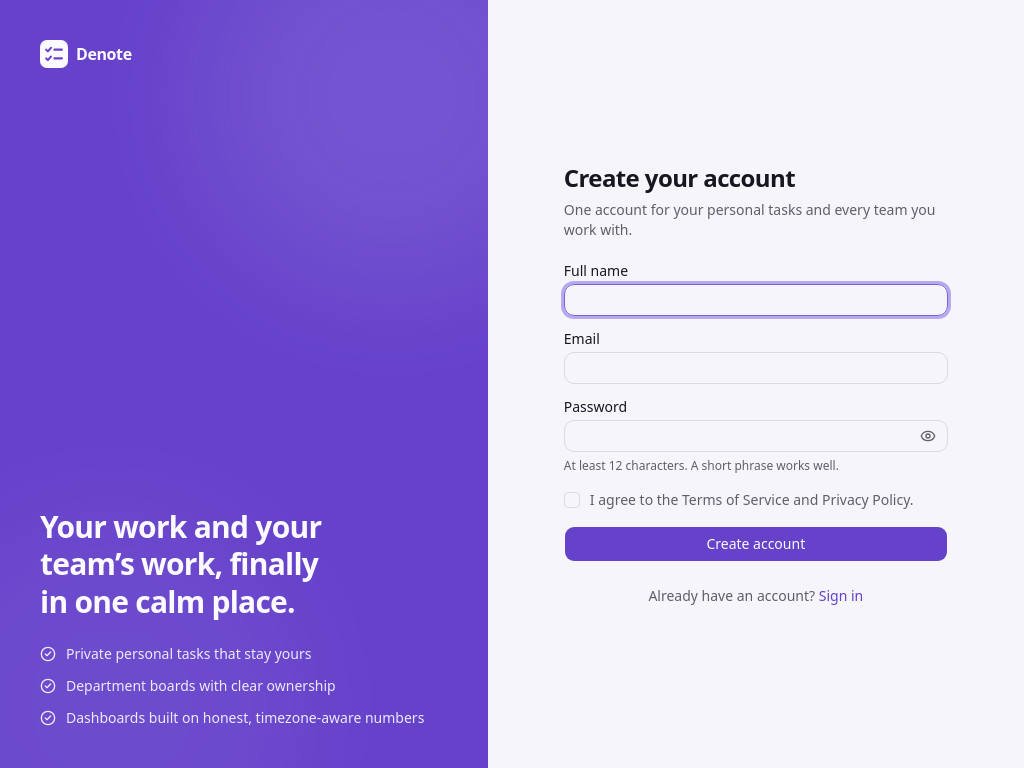
Test: registration › requires terms and shows server password feedback on the field
The width and height of the screenshot is (1024, 768).
Type "Ada Lovelace" into the field labelled "Full name". click: (756, 300)
box: [564,284,948,316]
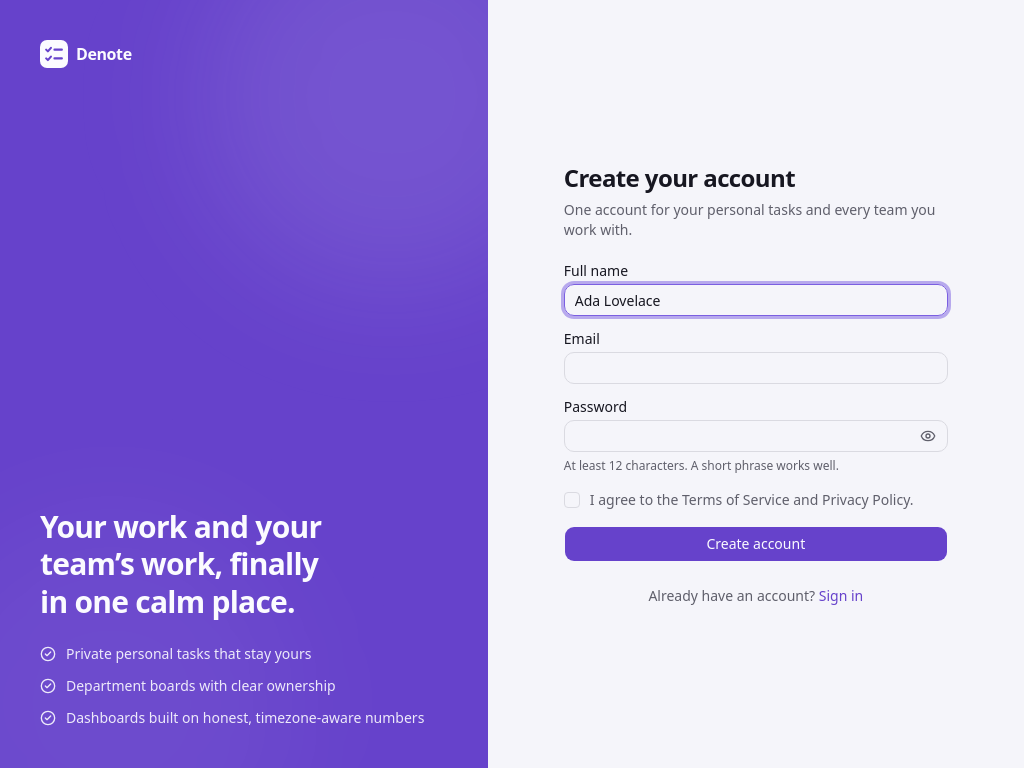
Type "ada@example.com" into the field labelled "Email". click: (756, 368)
box: [564,352,948,384]
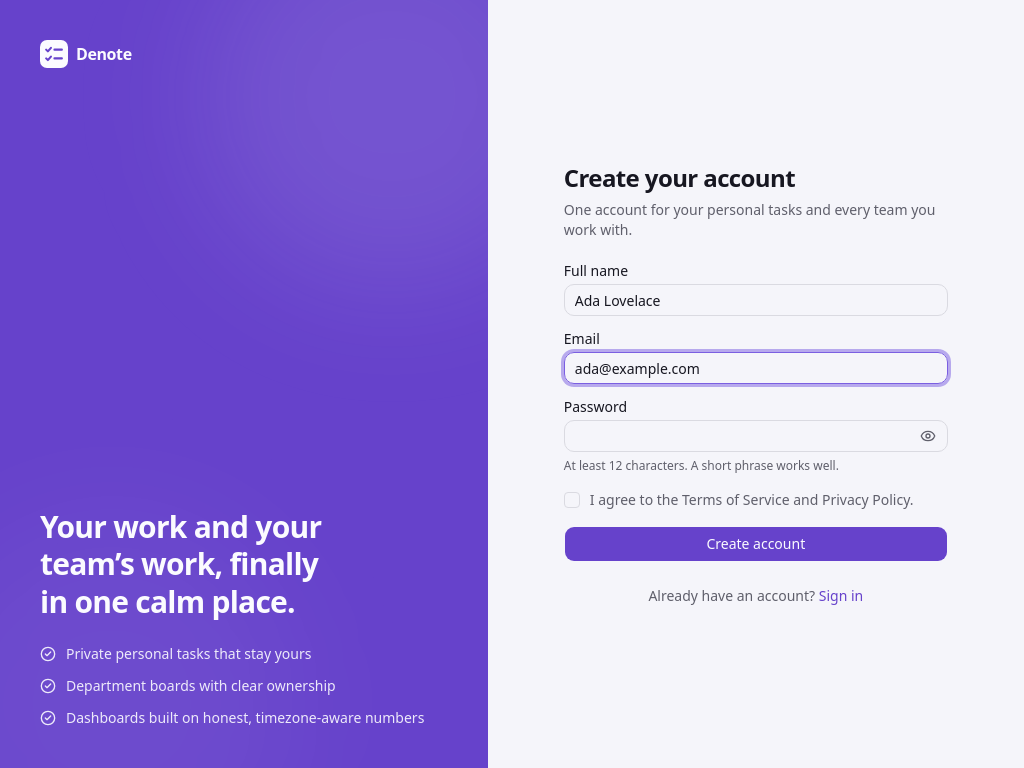
Type "password1234" into the password field labelled "Password". click: (756, 436)
box: [564,420,948,452]
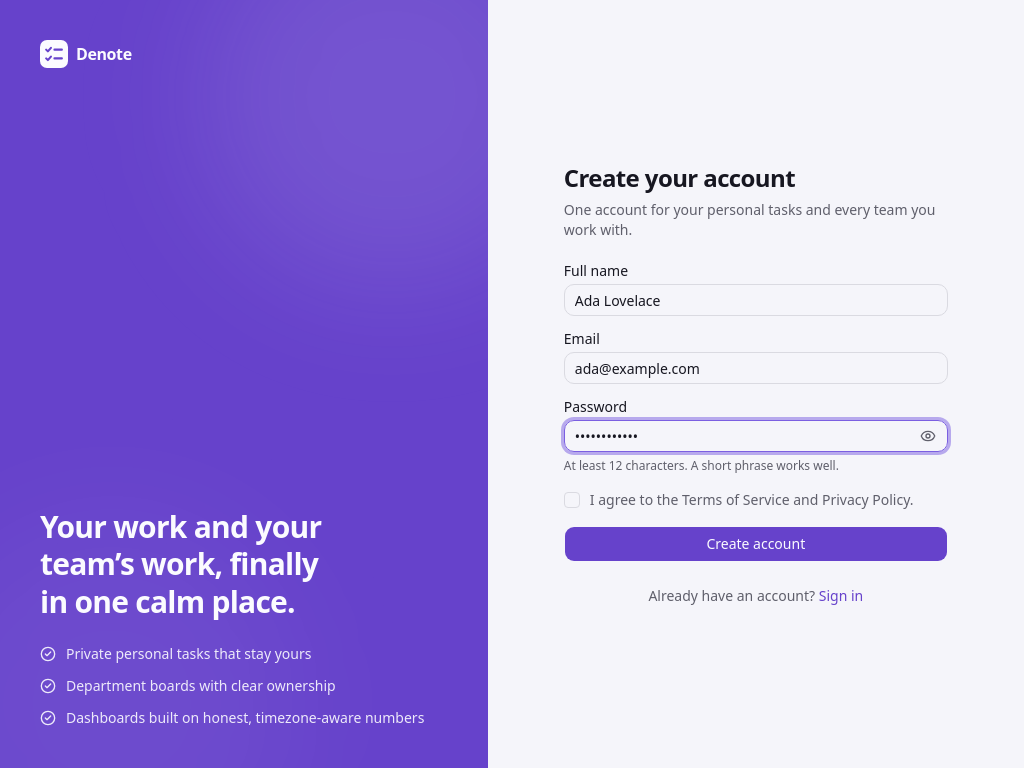
Click the button "Create account". click: (756, 544)
box: [564,526,948,562]
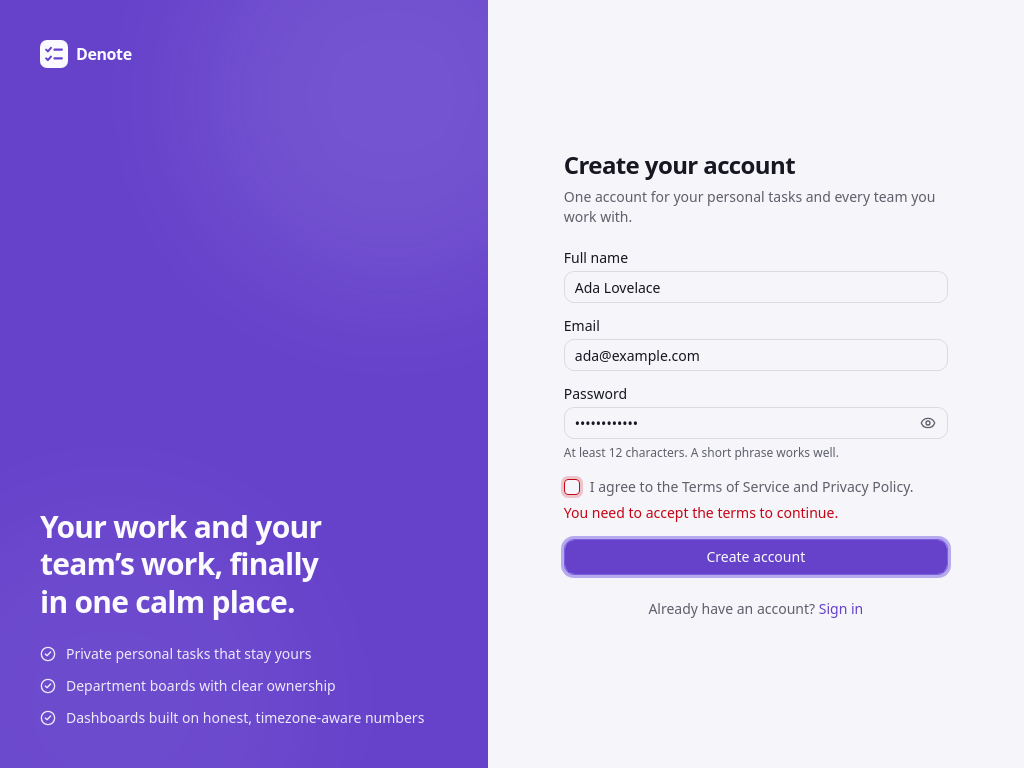
Expected: the text "You need to accept the terms to continue." is shown, [564,503,838,522]
Click the checkbox. click: (572, 487)
box: [564,479,580,495]
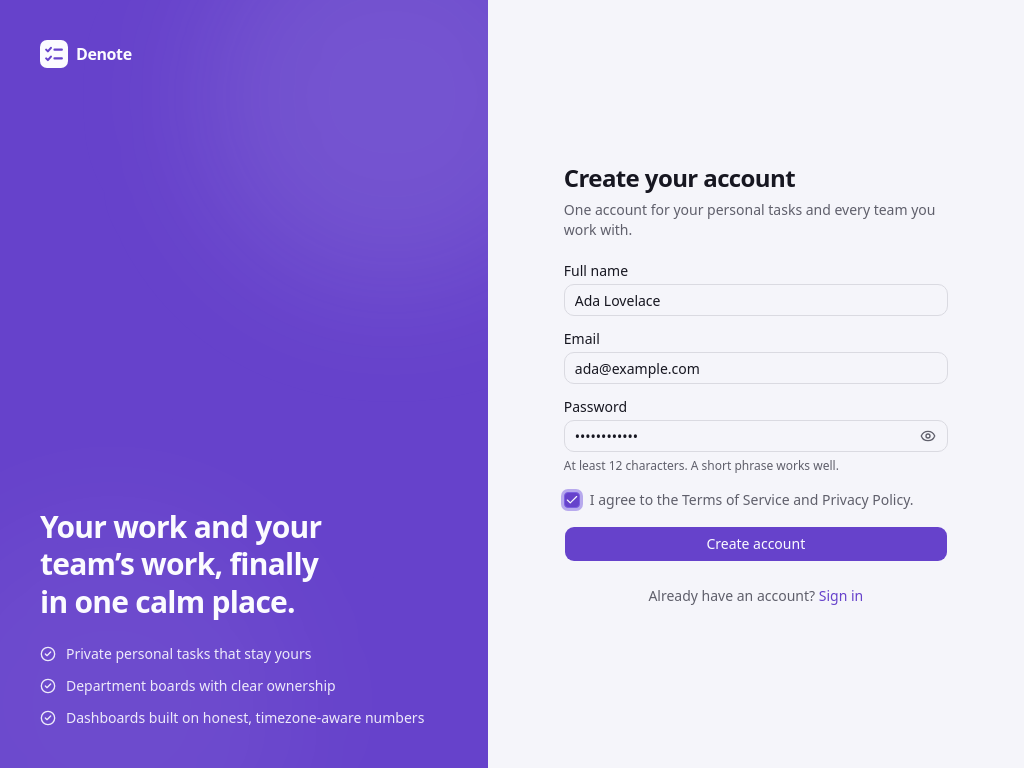
Click the button "Create account". click: (756, 544)
box: [564,526,948,562]
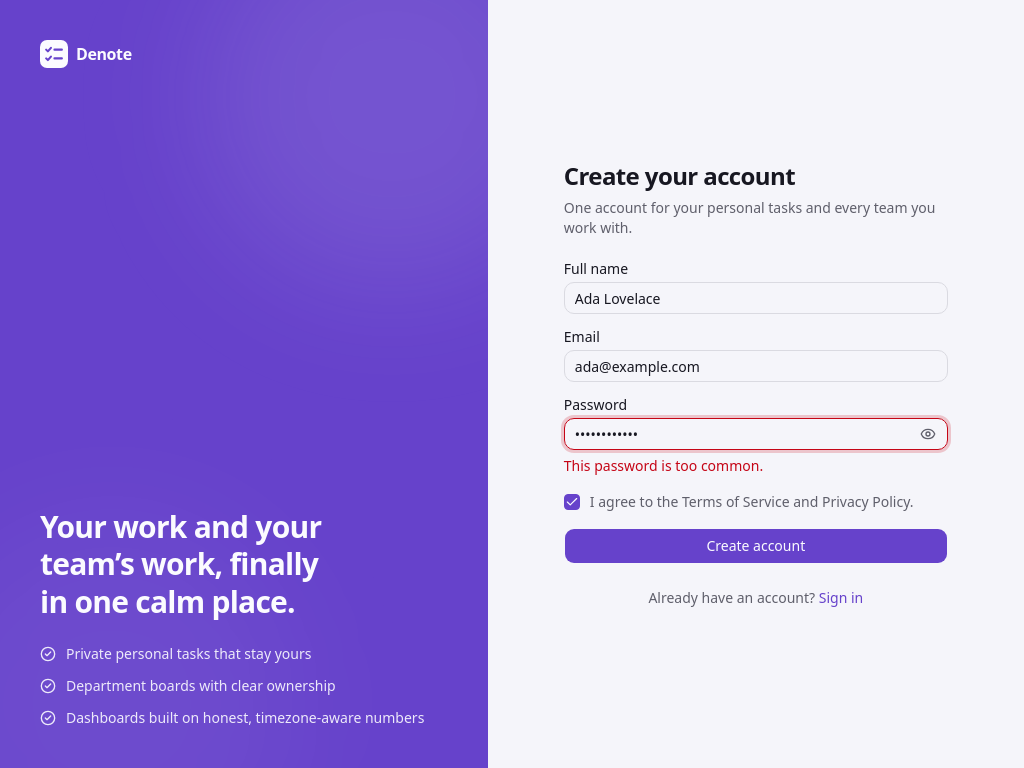
Expected: the text "This password is too common." is shown, [564,456,763,475]
